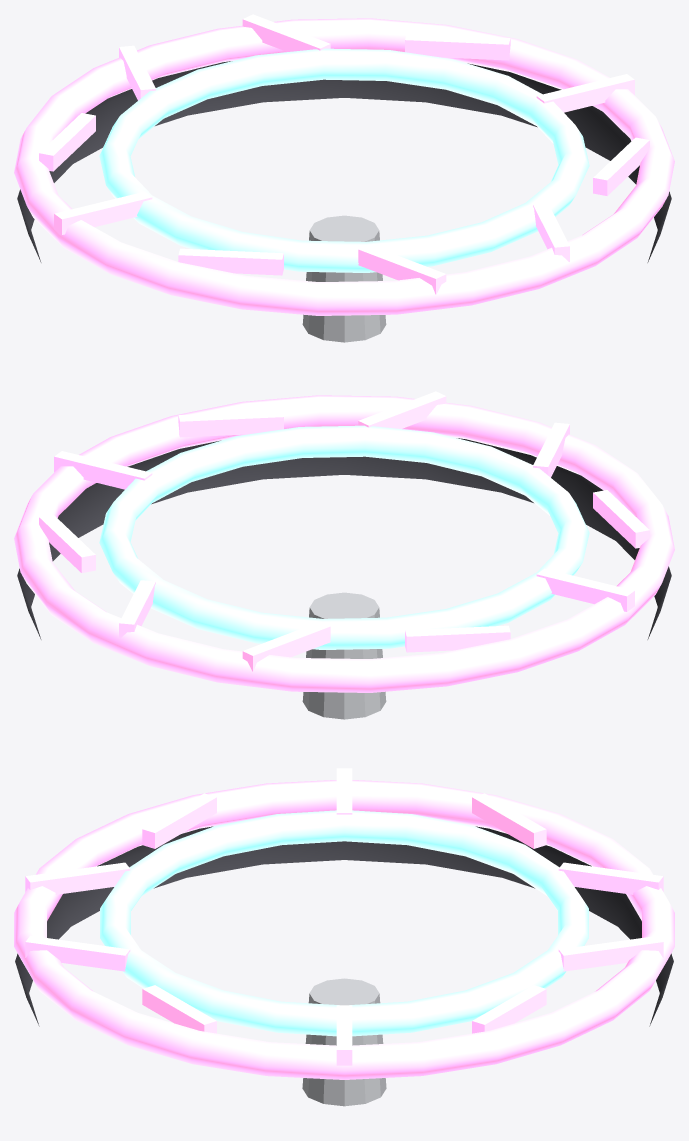
Rendered from casino-floor-and-back-rooms-neon-sign-frame-round-242419fc__27054.glb.
The picture shows the model from 3 angles, top to bottom: view 1: azimuth 30°, elevation 25°; view 2: azimuth 150°, elevation 25°; view 3: azimuth 270°, elevation 25°; orthographic projection.
Parts seen in each view (by area): view 1: neon-sign-frame-round; view 2: neon-sign-frame-round; view 3: neon-sign-frame-round.
Boxes of the visible parts, x1,y1,x2,y2 form: neon-sign-frame-round: [14, 14, 674, 342]; neon-sign-frame-round: [14, 391, 674, 719]; neon-sign-frame-round: [14, 768, 674, 1106].
Bounding box in the file's own units: 1.9 × 0.565 × 1.89.
